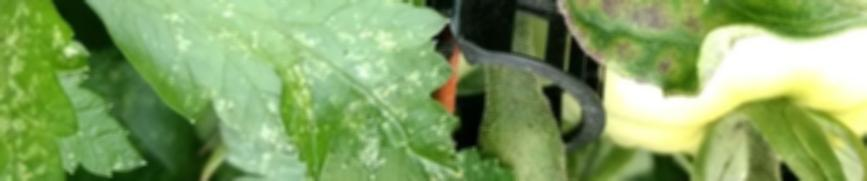Tomato leaf mosaic virus: (19, 0, 456, 181)
